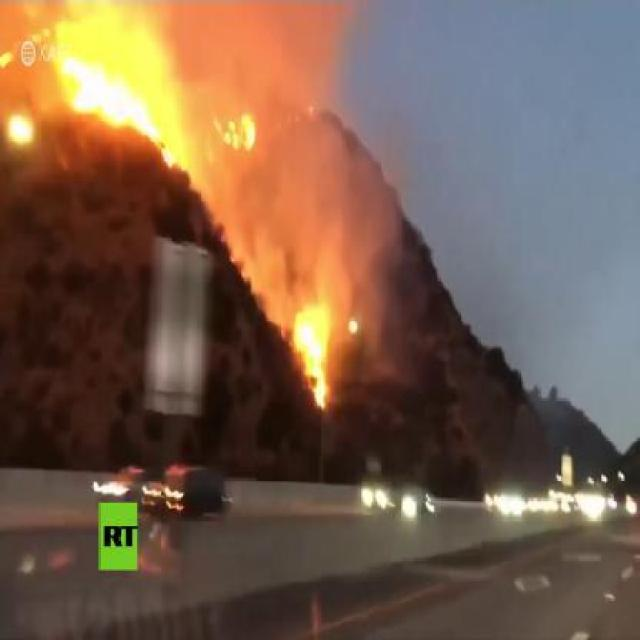Fire: (56, 24, 182, 170), (292, 302, 330, 408), (216, 106, 255, 152)
